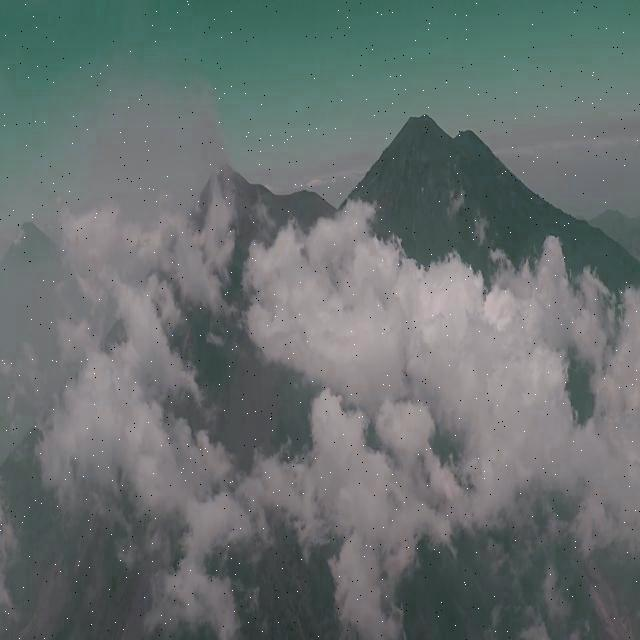Summit: (183, 160, 276, 231)
